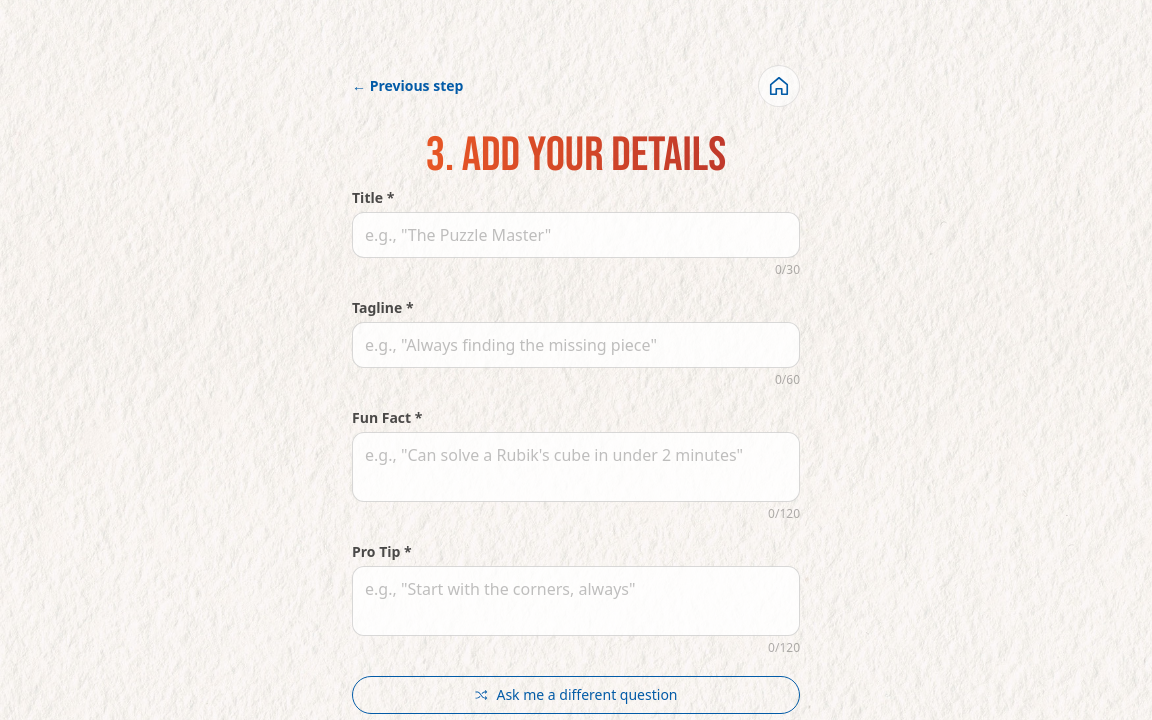
Test: TextEntry › clears profanity error when text is corrected
# Enter bad word
Type "badword" into the field with test id "field-title".
click(576, 235); type("badword")  # box [352, 212, 800, 258]
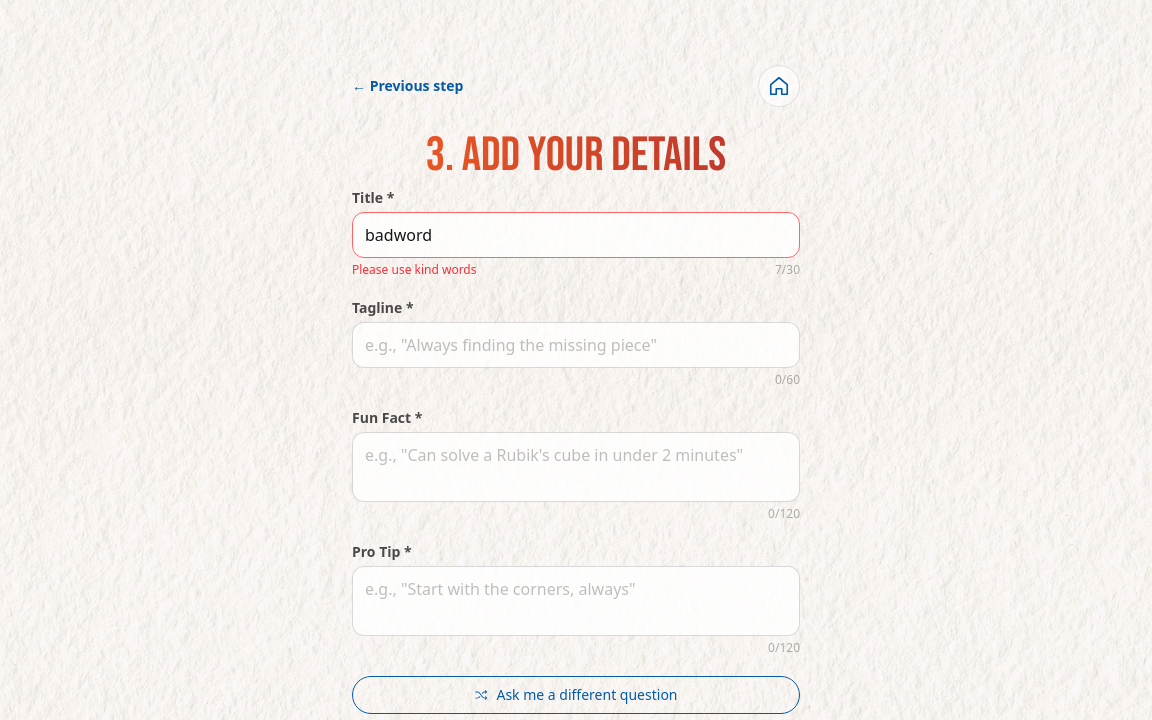
Expected: the message "Please use kind words" is shown, [352, 262, 476, 278]
Replace the text in the field with test id "field-title" with "Good title" at (576, 235), box [352, 212, 800, 258]
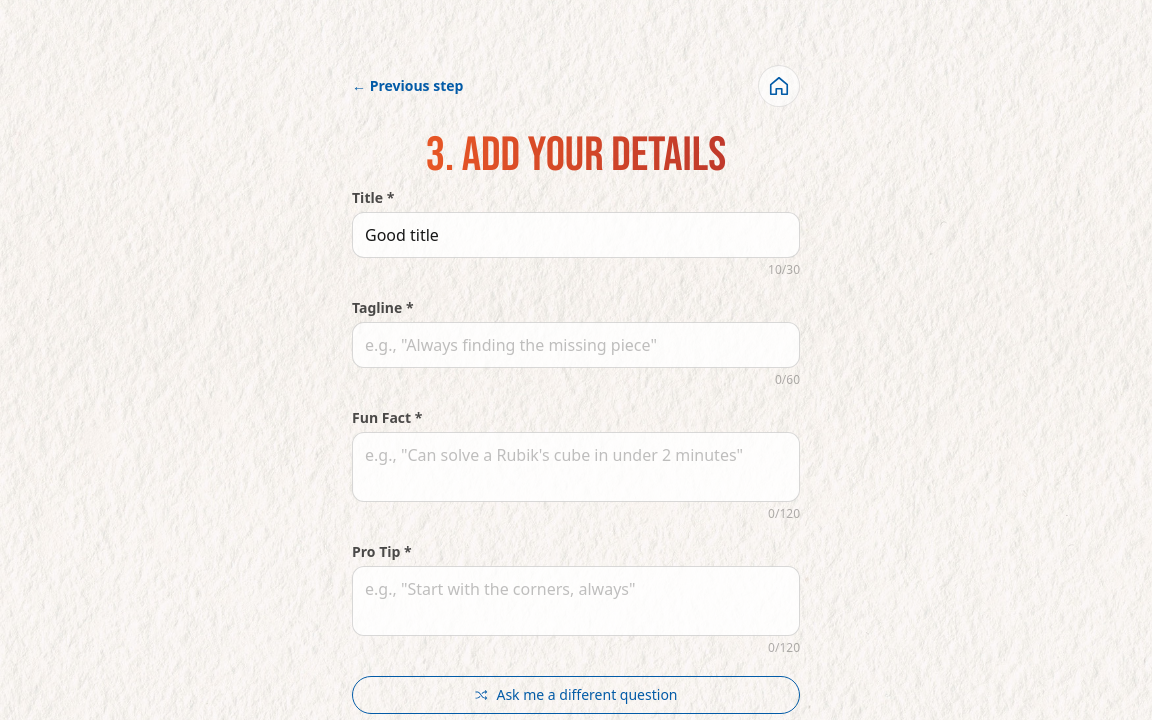
Expected: the message with test id "profanity-title" is gone
